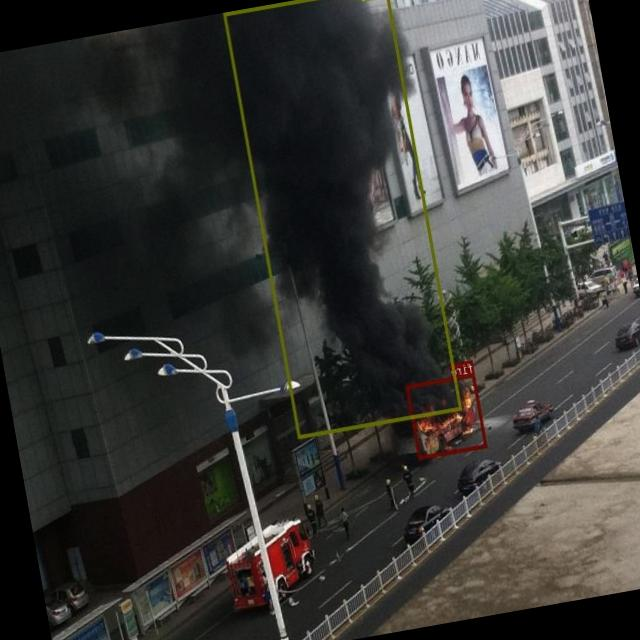fire: (406, 372, 488, 458)
smoke: (224, 0, 462, 437)
